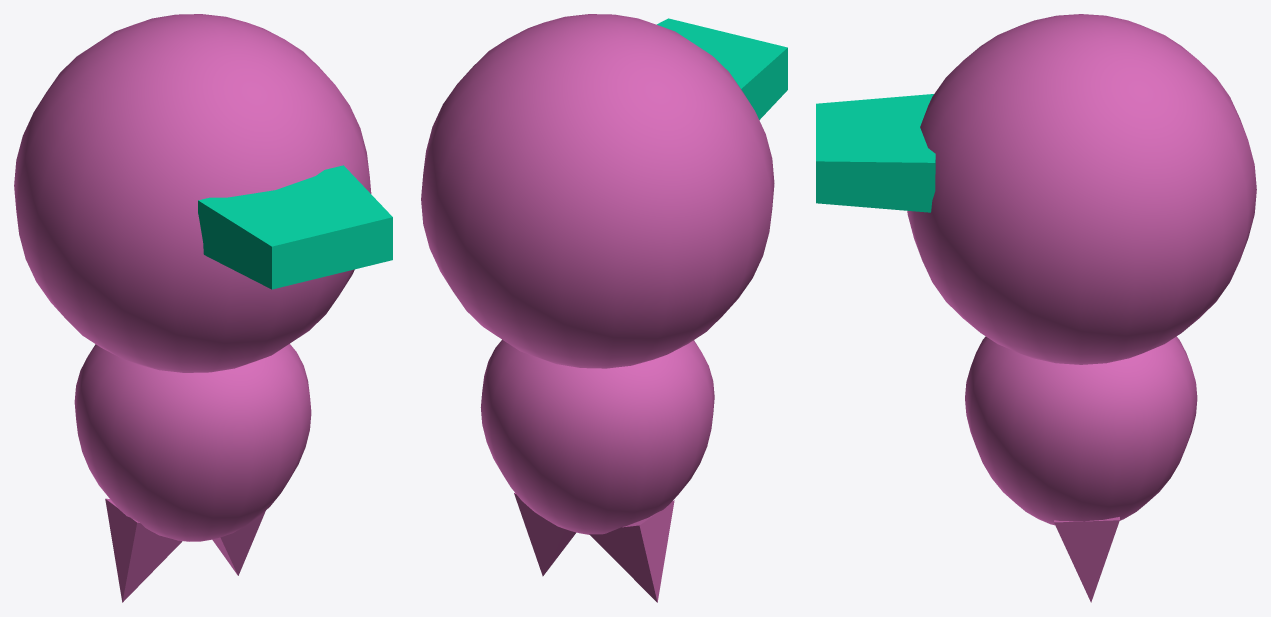
The model's file is PlayerKari.fbx.
The picture shows the model from 3 angles, left to right: view 1: azimuth 30°, elevation 25°; view 2: azimuth 150°, elevation 25°; view 3: azimuth 270°, elevation 25°; orthographic projection. The views are drawn at different scales.
Visible parts, largest first — view 1: pasted__pCone2; view 2: pasted__pCone2; view 3: pasted__pCone2.
Part boxes in pixels (x1,y1,x2,y2): pasted__pCone2: (14,14,392,602); pasted__pCone2: (421,14,787,602); pasted__pCone2: (816,14,1256,602).
Bounding box in the file's own units: 2 × 3.44 × 2.51.
